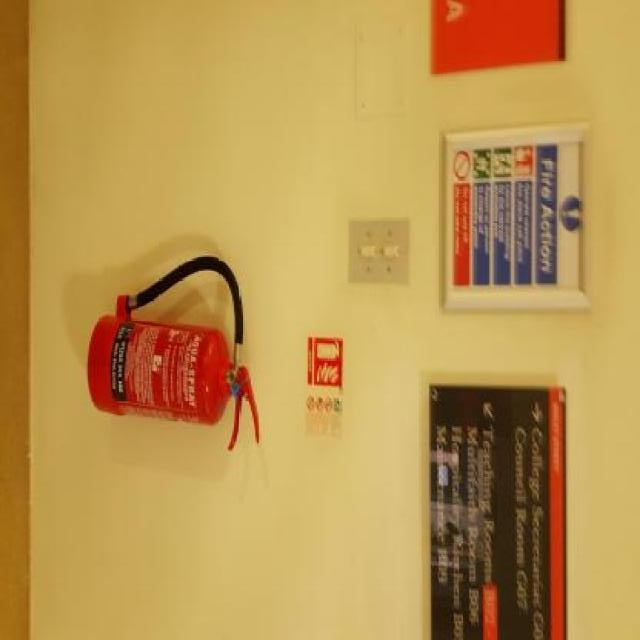fire extinguisher: (87, 254, 261, 455)
